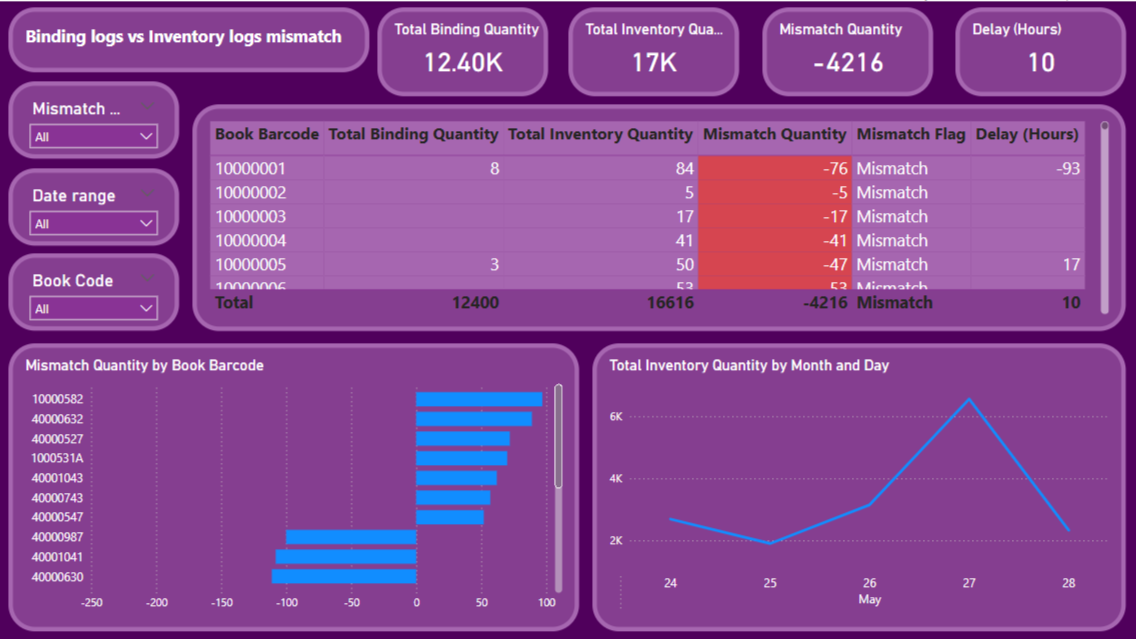

This screenshot's page, from the dashboard's own definition file:
{"tool":"powerbi","page":{"name":"Page 1","canvas":[1280,720],"ordinal":0},"visuals":[{"type":"card","title":"Total Binding Quantity","fields":{"Values":["binding_logs.Total Binding Quantity"]},"box":[425.3,6.6,191.5,100.4],"z":0},{"type":"card","title":"Mismatch Quantity","fields":{"Values":["Book_Barcodes_Bridge.Mismatch Quantity"]},"box":[858.6,6.6,191.5,100.4],"z":1000},{"type":"card","title":"Delay (Hours)","fields":{"Values":["Book_Barcodes_Bridge.Delay (Days)"]},"box":[1075.3,6.6,191.5,100.4],"z":2000},{"type":"card","title":"Total Inventory Quantity","fields":{"Values":["books_inventory_logs__2025-05-2.Total Inventory Quantity"]},"box":[640.7,6.6,191.5,100.4],"z":3000},{"type":"tableEx","fields":{"Values":["Book_Barcodes_Bridge.Book Barcode","binding_logs.Total Binding Quantity","books_inventory_logs__2025-05-2.Total Inventory Quantity","Book_Barcodes_Bridge.Mismatch Quantity","Book_Barcodes_Bridge.Mismatch Flag","Book_Barcodes_Bridge.Delay (Hours)"]},"box":[216.6,116.2,1050.2,254.9],"z":4000},{"type":"barChart","fields":{"Y":["Book_Barcodes_Bridge.Mismatch Quantity"],"Category":["Book_Barcodes_Bridge.Book Barcode"]},"box":[10.6,384.4,642,323.6],"z":5000},{"type":"lineChart","fields":{"Y":["books_inventory_logs__2025-05-2.Total Inventory Quantity"],"Category":["books_inventory_logs__2025-05-2.Date.Variation.Date Hierarchy.Month","books_inventory_logs__2025-05-2.Date.Variation.Date Hierarchy.Day"]},"box":[667.1,384.4,599.7,323.6],"z":6000},{"type":"slicer","fields":{"Values":["binding_logs.Book Code"]},"box":[10.6,284,191.5,87.2],"z":7000},{"type":"slicer","fields":{"Values":["binding_logs.Log Time"]},"box":[10.6,187.6,191.5,87.2],"z":8000},{"type":"slicer","fields":{"Values":["Book_Barcodes_Bridge.Mismatch Flag'"]},"box":[10.6,89.8,191.5,87.2],"z":9000},{"type":"textbox","box":[10.6,6.6,405.5,72.7],"z":10000}]}

Visuals, with their boxes in screenshot pixels (x1, y1, x2, y2), scaled from the page's 1280x720 canvas onto the 1136x639 screenshot:
"Total Binding Quantity" card: (x1=377, y1=6, x2=547, y2=95)
"Mismatch Quantity" card: (x1=762, y1=6, x2=932, y2=95)
"Delay (Hours)" card: (x1=954, y1=6, x2=1124, y2=95)
"Total Inventory Quantity" card: (x1=569, y1=6, x2=739, y2=95)
tableEx - Book_Barcodes_Bridge.Book Barcode x binding_logs.Total Binding Quantity: (x1=192, y1=103, x2=1124, y2=329)
barChart - Book_Barcodes_Bridge.Mismatch Quantity x Book_Barcodes_Bridge.Book Barcode: (x1=9, y1=341, x2=579, y2=628)
lineChart - books_inventory_logs__2025-05-2.Total Inventory Quantity x books_inventory_logs__2025-05-2.Date.Variation.Date Hierarchy.Month: (x1=592, y1=341, x2=1124, y2=628)
slicer - binding_logs.Book Code: (x1=9, y1=252, x2=179, y2=329)
slicer - binding_logs.Log Time: (x1=9, y1=166, x2=179, y2=244)
slicer - Book_Barcodes_Bridge.Mismatch Flag': (x1=9, y1=80, x2=179, y2=157)
textbox: (x1=9, y1=6, x2=369, y2=70)
